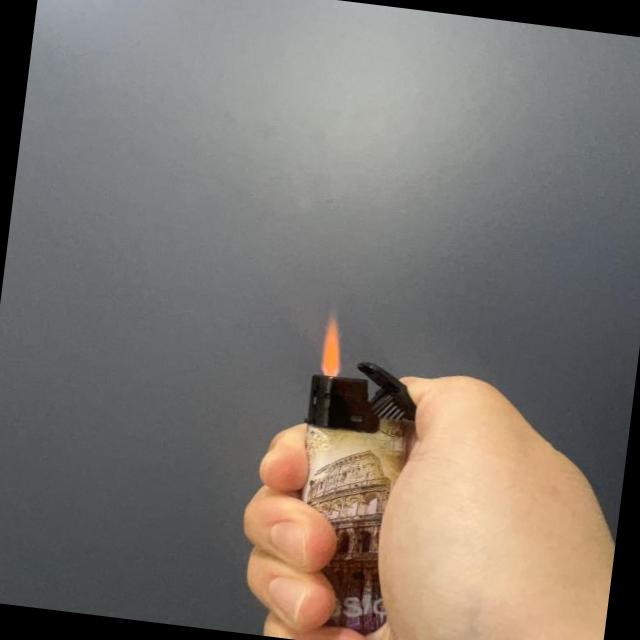Fire: (317, 309, 349, 377)
